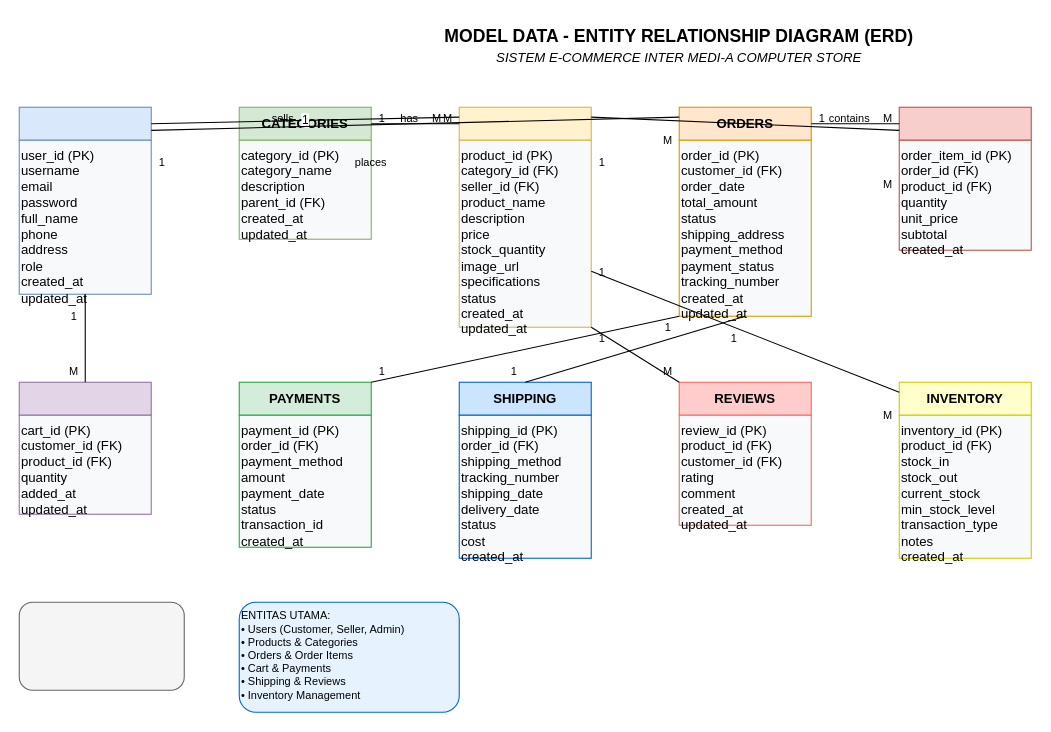
Some shapes in this 1051 by 732 pixel diagram are drawn without their labels. Here are the shapes that lost their labels. From the top down, the centre of each, then its label:
[84,123]: USERS
[524,123]: PRODUCTS
[964,123]: ORDER_ITEMS
[84,398]: CART
[101,645]: KETERANGAN: PK = Primary Key FK = Foreign Key 1 = One M = Many
